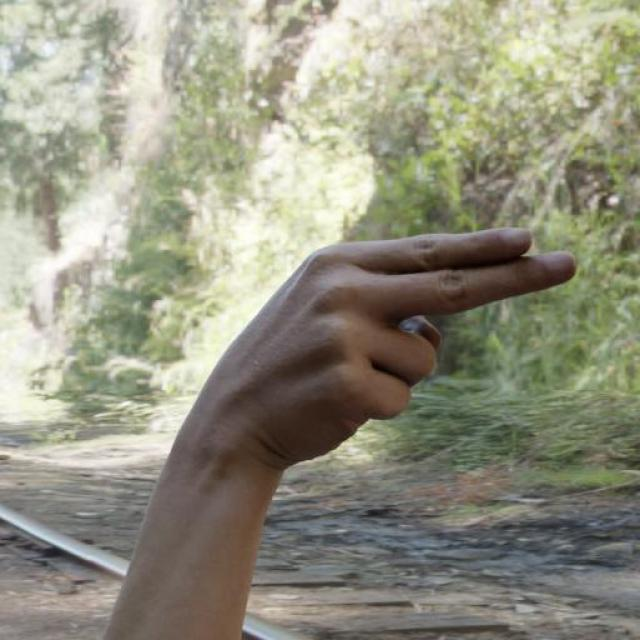H: (177, 215, 586, 476)
